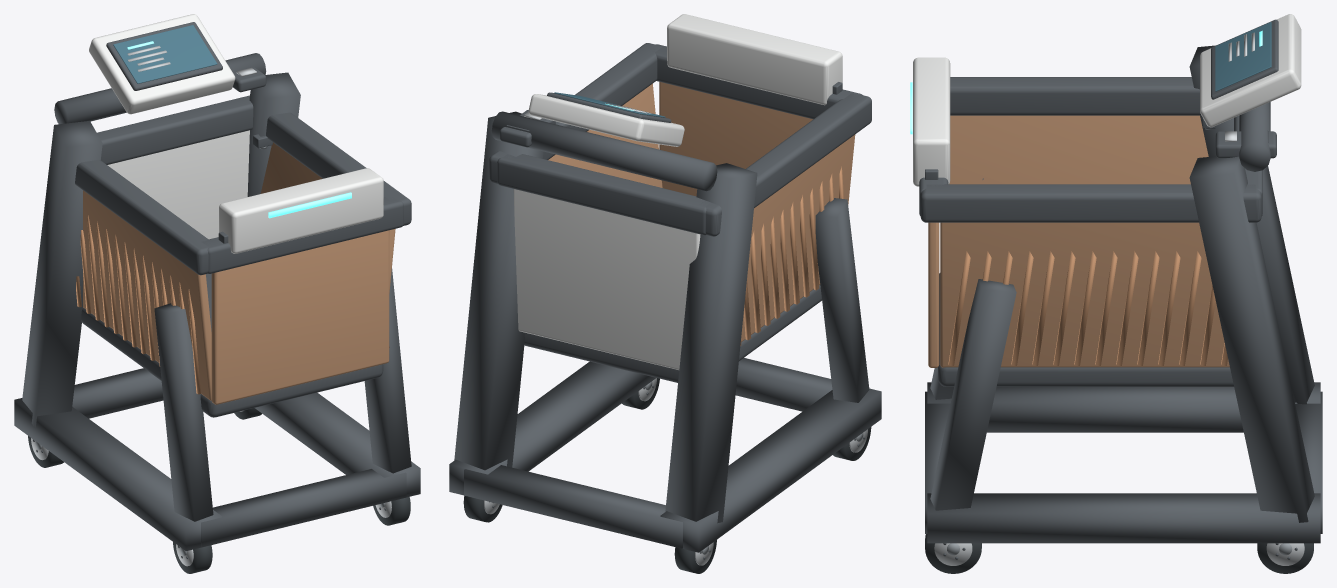
The model's file is z-cart-smart-shopping-cart.glb.
3 renders of one model, left to right at view 1: azimuth 30°, elevation 25°; view 2: azimuth 150°, elevation 25°; view 3: azimuth 270°, elevation 25°, orthographic. The views are drawn at different scales.
Visible parts, largest first — view 1: End_Panel_0102, Rear_Post_0002, Wood_Side_0070, Lower_Rail_0001, White_Bar_0115, End_Panel_0104, Front_Post_0003, Crossbar_0007, Lower_Rail_0004, Top_Rim_0071, Rim_0105, White_Housing_0107 (+14 smaller); view 2: End_Panel_0104, Rear_Post_0002, Rear_Post_0005, Lower_Rail_0001, White_Bar_0115, Crossbar_0008, End_Panel_0102, Lower_Rail_0004, Rim_0105, Front_Post_0003, Wood_Side_0070, Handle_0106 (+18 smaller); view 3: Wood_Side_0086, Rear_Post_0005, Lower_Rail_0004, Wood_Side_0070, Lower_Rail_0001, Top_Rim_0087, Front_Post_0006, Top_Rim_0071, Rear_Post_0002, Weighing_Base_0069, White_Bar_0115, White_Housing_0107 (+21 smaller).
Boxes of the visible parts, bbox=[...] form: End_Panel_0102: bbox=[211, 230, 389, 404]; Rear_Post_0002: bbox=[22, 121, 102, 427]; Wood_Side_0070: bbox=[83, 190, 211, 400]; Lower_Rail_0001: bbox=[14, 398, 222, 551]; White_Bar_0115: bbox=[219, 168, 383, 253]; End_Panel_0104: bbox=[107, 130, 249, 239]; Front_Post_0003: bbox=[154, 303, 213, 521]; Crossbar_0007: bbox=[201, 469, 406, 547]; Lower_Rail_0004: bbox=[255, 392, 420, 497]; Top_Rim_0071: bbox=[75, 160, 211, 275]; Rim_0105: bbox=[97, 95, 253, 164]; White_Housing_0107: bbox=[89, 14, 235, 114]; End_Panel_0104: bbox=[513, 189, 700, 369]; Rear_Post_0002: bbox=[665, 163, 757, 523]; Rear_Post_0005: bbox=[454, 111, 543, 470]; Lower_Rail_0001: bbox=[660, 388, 881, 552]; White_Bar_0115: bbox=[667, 14, 842, 105]; Crossbar_0008: bbox=[464, 465, 682, 548]; End_Panel_0102: bbox=[659, 82, 812, 196]; Lower_Rail_0004: bbox=[449, 361, 656, 495]; Rim_0105: bbox=[497, 154, 710, 235]; Front_Post_0003: bbox=[815, 198, 869, 402]; Wood_Side_0070: bbox=[741, 134, 855, 341]; Handle_0106: bbox=[491, 111, 717, 191]; Wood_Side_0086: bbox=[940, 222, 1229, 367]; Rear_Post_0005: bbox=[1189, 156, 1314, 522]; Lower_Rail_0004: bbox=[927, 493, 1320, 543]; Wood_Side_0070: bbox=[949, 115, 1208, 184]; Lower_Rail_0001: bbox=[927, 382, 1320, 432]; Top_Rim_0087: bbox=[920, 184, 1261, 222]; Front_Post_0006: bbox=[930, 279, 1016, 510]; Top_Rim_0071: bbox=[950, 77, 1200, 115]; Rear_Post_0002: bbox=[1189, 45, 1314, 404]; Weighing_Base_0069: bbox=[938, 273, 1233, 386]; White_Bar_0115: bbox=[913, 57, 950, 186]; White_Housing_0107: bbox=[1200, 14, 1301, 127].
Size of the model in its own units: 0.7181 by 1.19 by 0.944.
